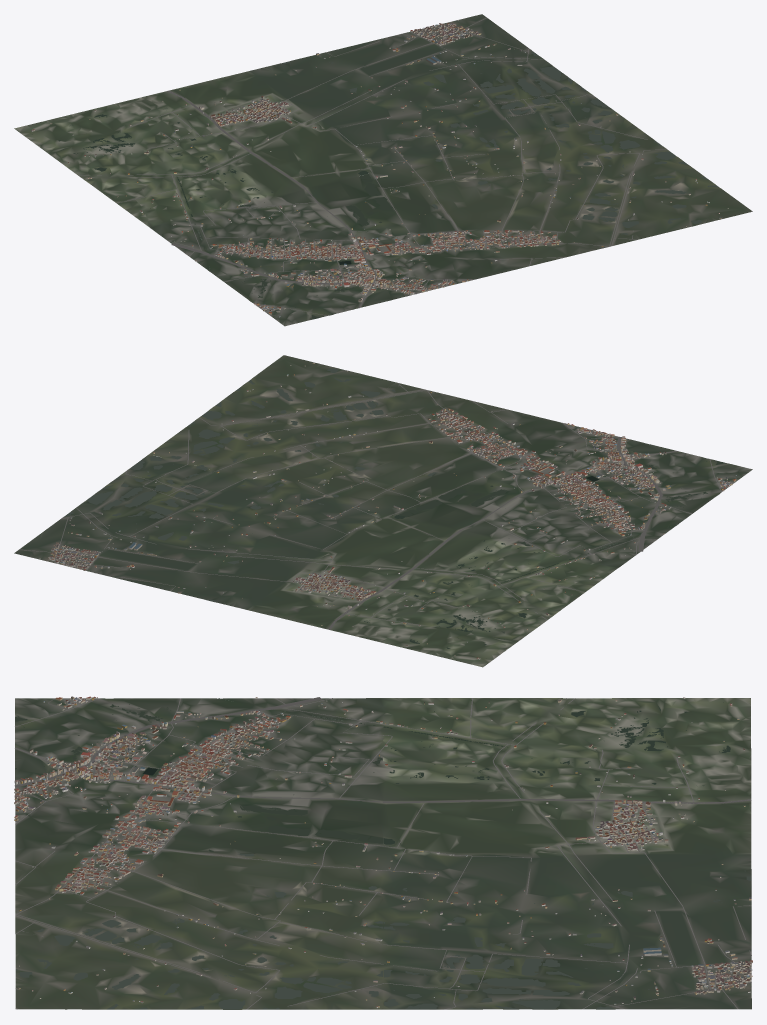
3 renders of one model, top to bottom at view 1: azimuth 30°, elevation 25°; view 2: azimuth 150°, elevation 25°; view 3: azimuth 270°, elevation 25°, orthographic. The views are drawn at different scales.
Parts seen in each view (by area): view 1: ground, buildings, roads, water; view 2: ground, buildings, roads, water; view 3: ground, buildings, water, roads.
Part boxes in pixels (x1,y1,x2,y2): ground: (14,14,752,326); buildings: (31,20,728,317); roads: (79,18,751,315); water: (32,49,718,319); ground: (14,355,752,667); buildings: (39,362,736,659); roads: (19,355,737,629); water: (65,368,725,648); ground: (15,698,751,1009); buildings: (14,696,752,1007); water: (15,698,751,1009); roads: (14,697,751,1009).
Size of the model in its own units: 2819 by 28.22 by 2814.
